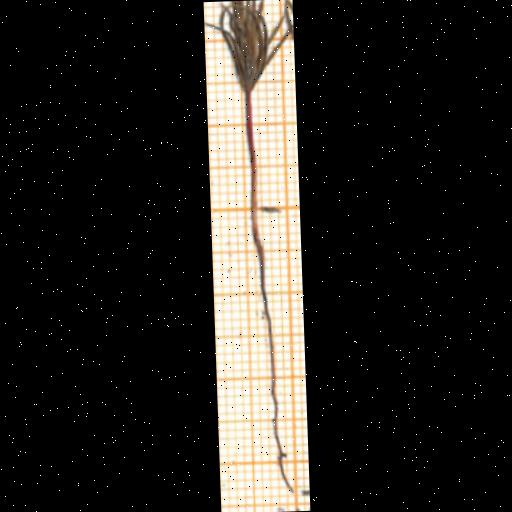flowerPinus: (217, 0, 291, 91)
rootPinus: (249, 211, 289, 488)
stemPinus: (243, 87, 257, 209)
